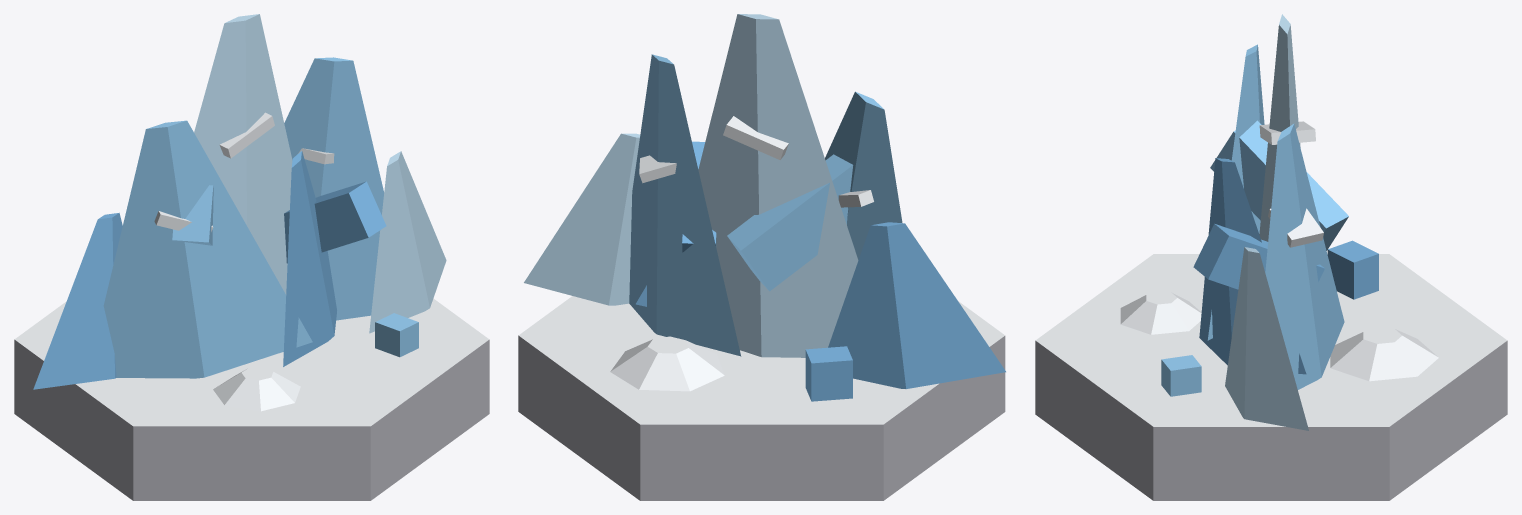
The model's file is ice-wall-large.glb.
3 views of the same model, side by side, from view 1: azimuth 30°, elevation 25°; view 2: azimuth 150°, elevation 25°; view 3: azimuth 270°, elevation 25° (orthographic). The views are drawn at different scales.
Parts seen in each view (by area): view 1: base, blade_1, blade_2, blade_4, blade_5, blade_0, blade_3, cross_2, mound_2, debris_2, cross_1, snow_2; view 2: base, blade_2, blade_4, blade_0, blade_5, cross_1, blade_1, mound_1, debris_1, snow_2, snow_3; view 3: base, blade_4, blade_5, blade_3, mound_1, cross_1, blade_2, cross_2, mound_2, debris_1, blade_1, debris_2 (+2 smaller).
Boxes of the visible parts, x1,y1,x2,y2 form: base: (14,298,489,500); blade_1: (103,120,312,378); blade_2: (194,14,292,294); blade_4: (284,57,384,320); blade_5: (369,151,446,333); blade_0: (33,212,122,389); blade_3: (283,151,336,366); cross_2: (284,181,386,263); mound_2: (213,367,300,411); debris_2: (375,313,418,357); cross_1: (172,185,213,245); snow_2: (219,112,274,158); base: (518,296,1005,500); blade_2: (698,14,858,357); blade_4: (629,54,741,356); blade_0: (828,222,1005,388); blade_5: (524,133,640,305); cross_1: (727,154,853,291); blade_1: (825,91,902,259); mound_1: (610,336,724,391); debris_1: (805,346,852,401); snow_2: (723,116,788,159); snow_3: (639,155,676,183); base: (1035,254,1507,500); blade_4: (1265,123,1344,389); blade_5: (1225,247,1308,430); blade_3: (1199,158,1306,374); mound_1: (1330,327,1438,381); cross_1: (1210,120,1348,250); blade_2: (1259,14,1300,241); cross_2: (1193,223,1324,289); mound_2: (1120,291,1201,334); debris_1: (1327,240,1378,299); blade_1: (1207,44,1264,340); debris_2: (1161,355,1201,396).
Size of the model in its own units: 1.24 by 1.05 by 1.15.
